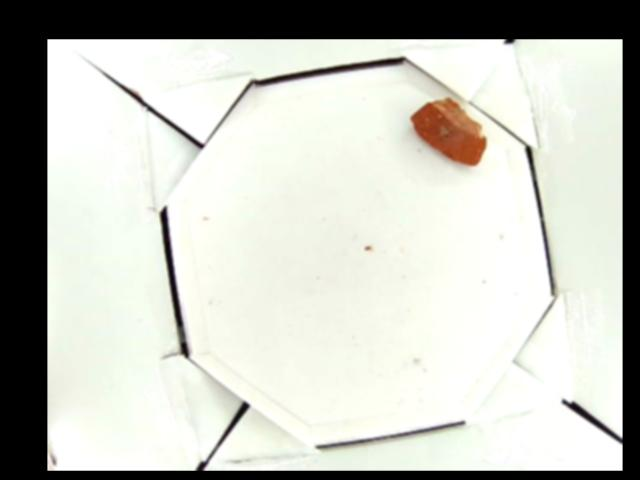Brisk: (406, 93, 489, 168)
